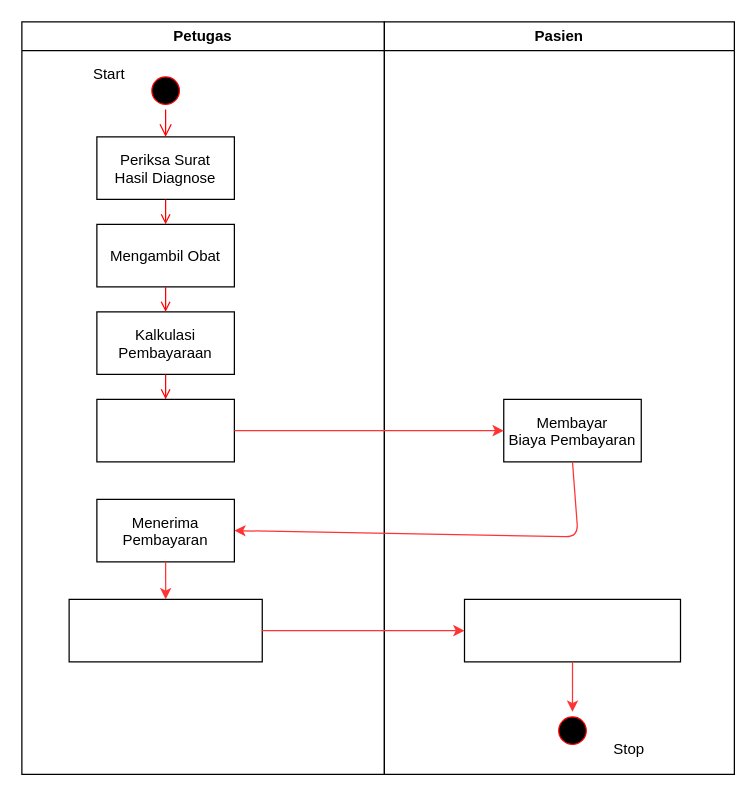
This 756x796 diagram has some shape labels left out. The shapes that lost their labels are listed below. From the top down, each one's centre as x and y in pixels, then its label:
pixel 165 430: Membuat Kwintasi
pixel 165 630: Menyerahkan Obat dan Kwintasi Pembayaran
pixel 572 630: Menerima Obat Dan Kwintasi Pembayaran
